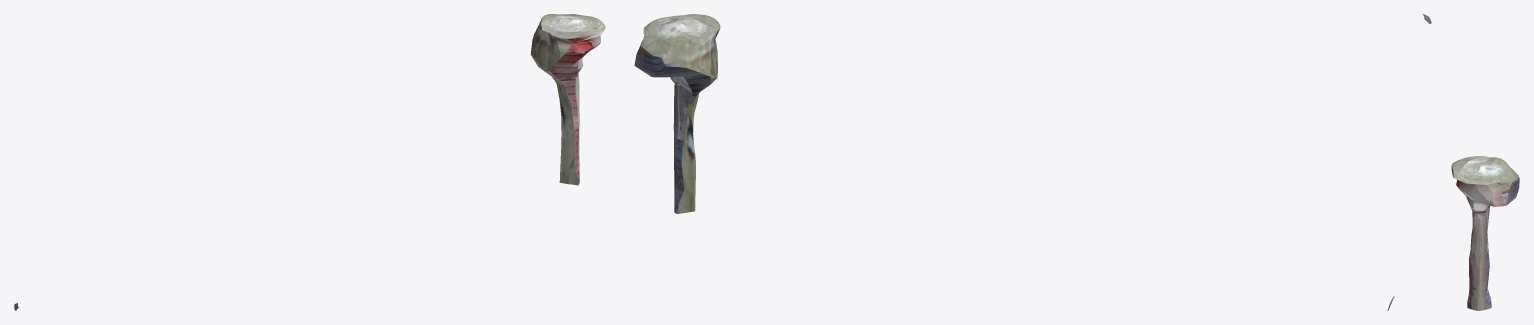
3 views of the same model, side by side, from view 1: azimuth 30°, elevation 25°; view 2: azimuth 150°, elevation 25°; view 3: azimuth 270°, elevation 25° (orthographic). The views are drawn at different scales.
Bounding box in the file's own units: 7.36 × 1.82 × 1.11.
Materials: 1 (1 with a texture image).
